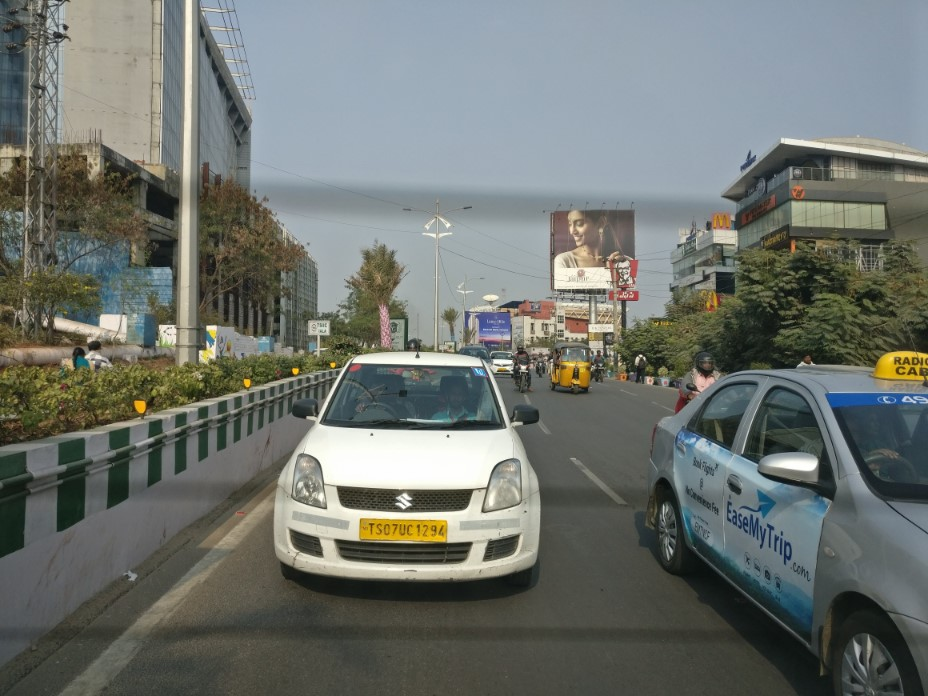swift desire: (272, 345, 558, 592)
